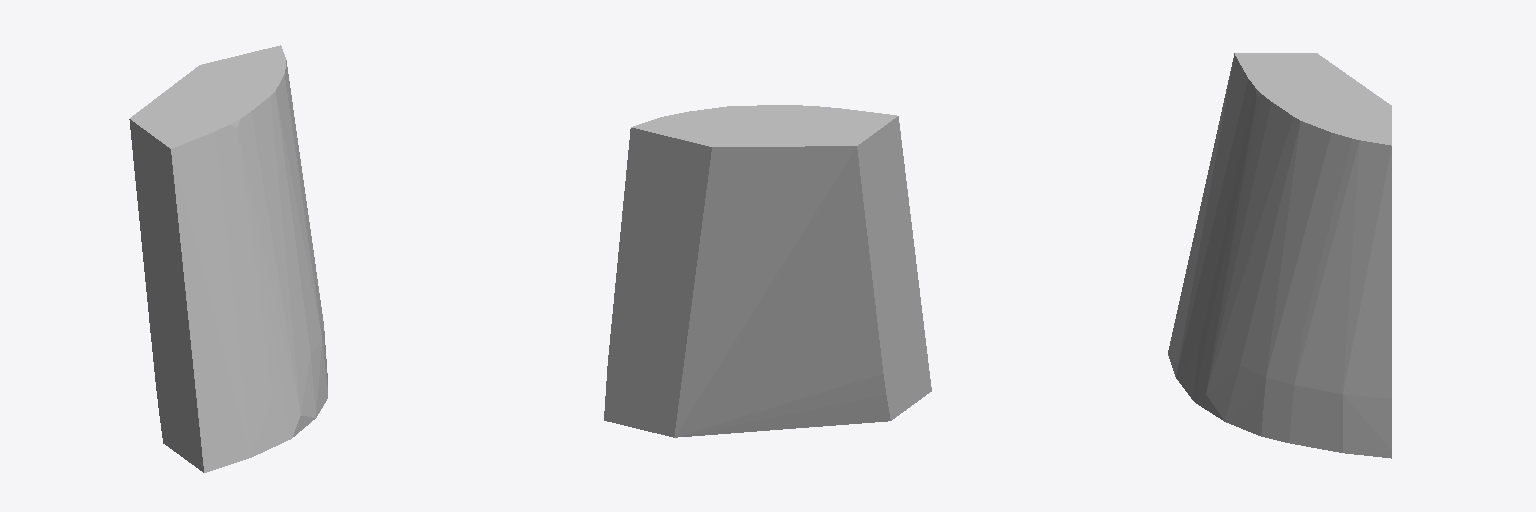
The model's file is phantom-elastrat_collision_382.obj.
The picture shows the model from 3 angles: view 1: azimuth 30°, elevation 25°; view 2: azimuth 150°, elevation 25°; view 3: azimuth 270°, elevation 25°; orthographic projection.
Size of the model in its own units: 0.0051 by 0.0068 by 0.0046.